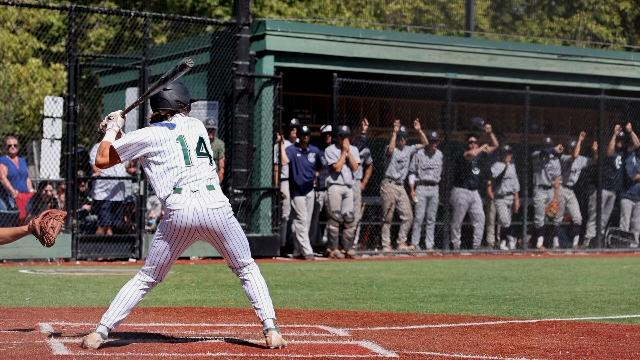baseball bat: (119, 57, 195, 119)
